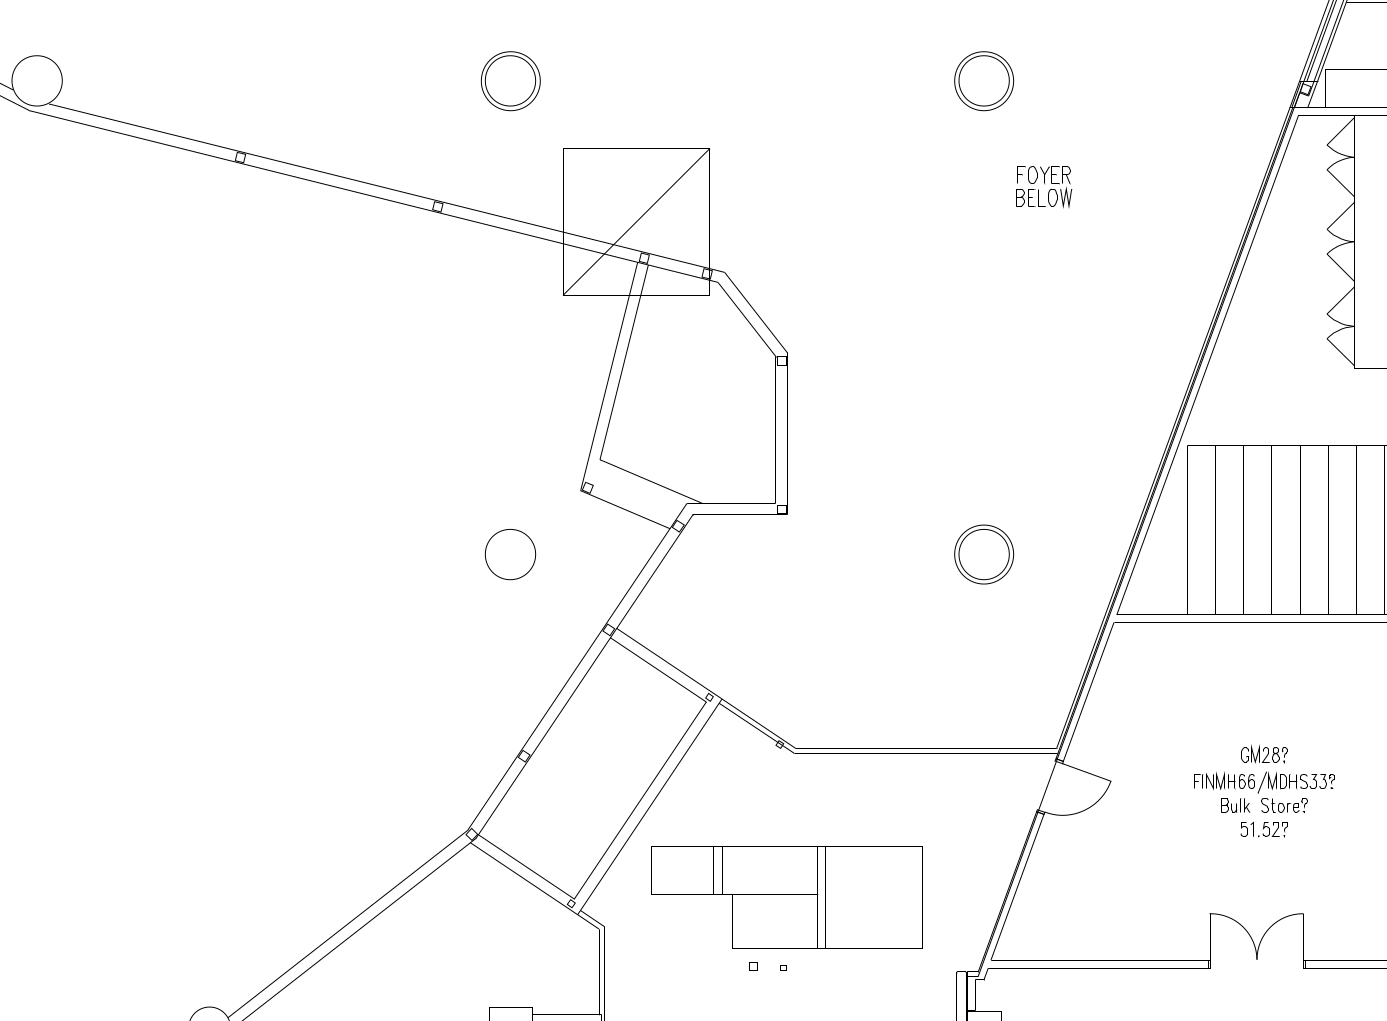door: (1035, 758, 1137, 826), (1205, 907, 1261, 971), (1253, 905, 1309, 969)
